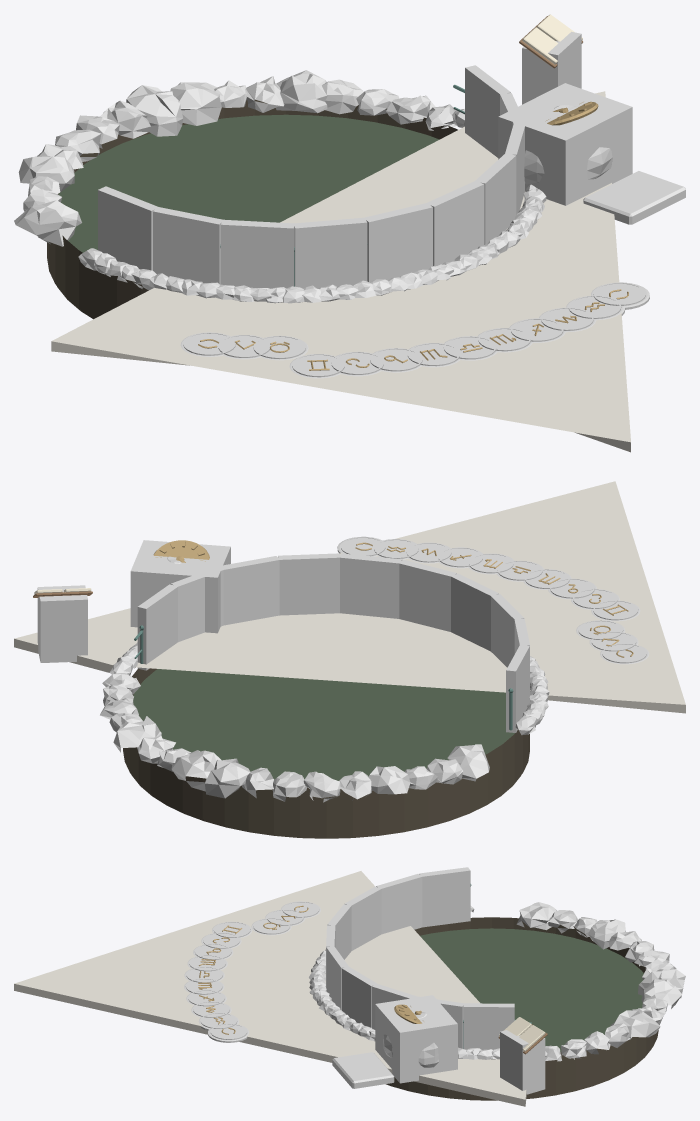
Rendered from TK_omgeving.fbx.
The picture shows the model from 3 angles, top to bottom: view 1: azimuth 30°, elevation 25°; view 2: azimuth 150°, elevation 25°; view 3: azimuth 270°, elevation 25°; orthographic projection. The views are drawn at different scales.
Visible parts, largest first — view 1: static__MAT_grind_0, static__MAT_water_0, static__TEX_natuursteen_0, static__TEX_rots_0, COLL_10, static__MAT_modder_0, COLL_3, COLL_2, COLL_1, COLL_4, COLL_0, COLL_5 (+6 smaller); view 2: static__MAT_grind_0, static__MAT_water_0, static__MAT_modder_0, static__TEX_rots_0, static__TEX_natuursteen_0, COLL_10, COLL_6, COLL_5, COLL_11, COLL_7, COLL_4, COLL_3 (+5 smaller); view 3: static__MAT_grind_0, static__MAT_water_0, static__TEX_natuursteen_0, static__TEX_rots_0, static__MAT_modder_0, COLL_10, COLL_0, COLL_11, COLL_1, COLL_9, COLL_2, COLL_6 (+6 smaller).
Boxes of the visible parts, <box> form: static__MAT_grind_0: <box>51,91,630,452</box>; static__MAT_water_0: <box>58,114,439,252</box>; static__TEX_natuursteen_0: <box>78,109,685,378</box>; static__TEX_rots_0: <box>14,70,612,246</box>; COLL_10: <box>498,83,632,205</box>; static__MAT_modder_0: <box>47,99,457,319</box>; COLL_3: <box>293,217,367,288</box>; COLL_2: <box>221,219,294,288</box>; COLL_1: <box>153,207,223,284</box>; COLL_4: <box>365,203,432,281</box>; COLL_0: <box>98,186,158,270</box>; COLL_5: <box>426,181,484,265</box>; static__MAT_grind_0: <box>14,481,685,713</box>; static__MAT_water_0: <box>133,669,514,780</box>; static__MAT_modder_0: <box>123,668,529,838</box>; static__TEX_rots_0: <box>100,556,489,802</box>; static__TEX_natuursteen_0: <box>109,536,649,735</box>; COLL_10: <box>130,540,230,633</box>; COLL_6: <box>278,553,340,615</box>; COLL_5: <box>339,553,402,618</box>; COLL_11: <box>37,585,87,662</box>; COLL_7: <box>219,556,280,625</box>; COLL_4: <box>399,559,456,631</box>; COLL_3: <box>451,573,498,651</box>; static__MAT_grind_0: <box>14,871,526,1106</box>; static__MAT_water_0: <box>420,928,643,1051</box>; static__TEX_natuursteen_0: <box>184,901,547,1088</box>; static__TEX_rots_0: <box>383,902,685,1067</box>; static__MAT_modder_0: <box>386,917,658,1100</box>; COLL_10: <box>375,995,457,1083</box>; COLL_0: <box>419,867,470,927</box>; COLL_11: <box>500,1030,545,1094</box>; COLL_1: <box>376,874,422,934</box>; COLL_9: <box>463,1003,514,1049</box>; COLL_2: <box>345,886,381,950</box>; COLL_6: <box>342,966,376,1027</box>.
Bounding box in the file's own units: 9.69 × 3.26 × 12.02.
